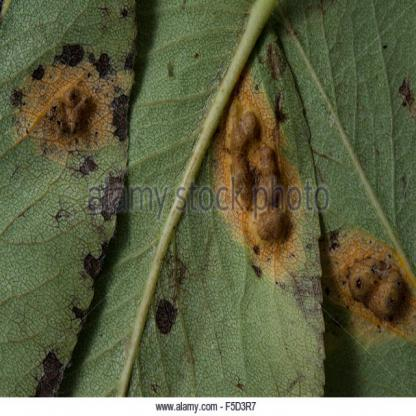Apple rust leaf: (27, 26, 410, 375)
